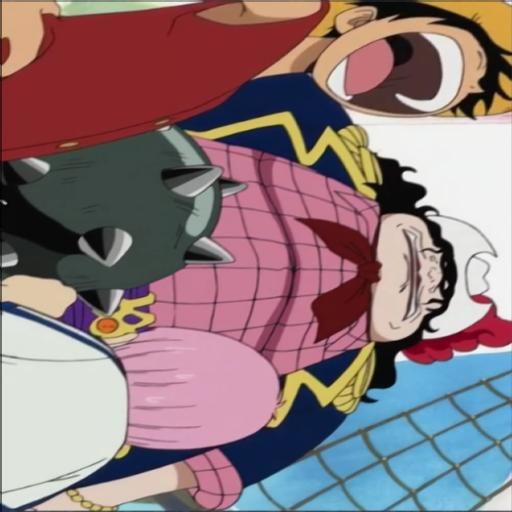Luffy: (0, 0, 512, 170)
